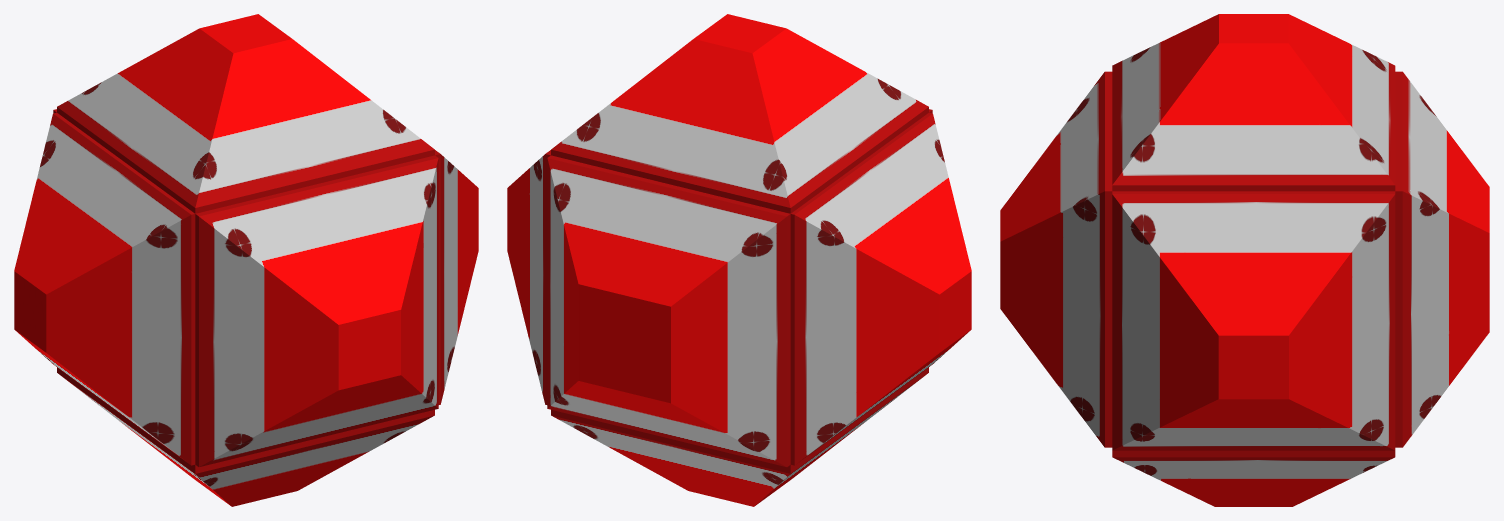
Rendered from damageblock.obj.
The picture shows the model from 3 angles, left to right: view 1: azimuth 30°, elevation 25°; view 2: azimuth 150°, elevation 25°; view 3: azimuth 270°, elevation 25°; orthographic projection. The views are drawn at different scales.
Visible parts, largest first — view 1: 立方体; view 2: 立方体; view 3: 立方体.
Boxes of the visible parts, x1,y1,x2,y2 form: 立方体: (14, 14, 478, 506); 立方体: (507, 14, 971, 506); 立方体: (1000, 14, 1489, 506).
Bounding box in the file's own units: 1.08 × 1.08 × 1.04.
